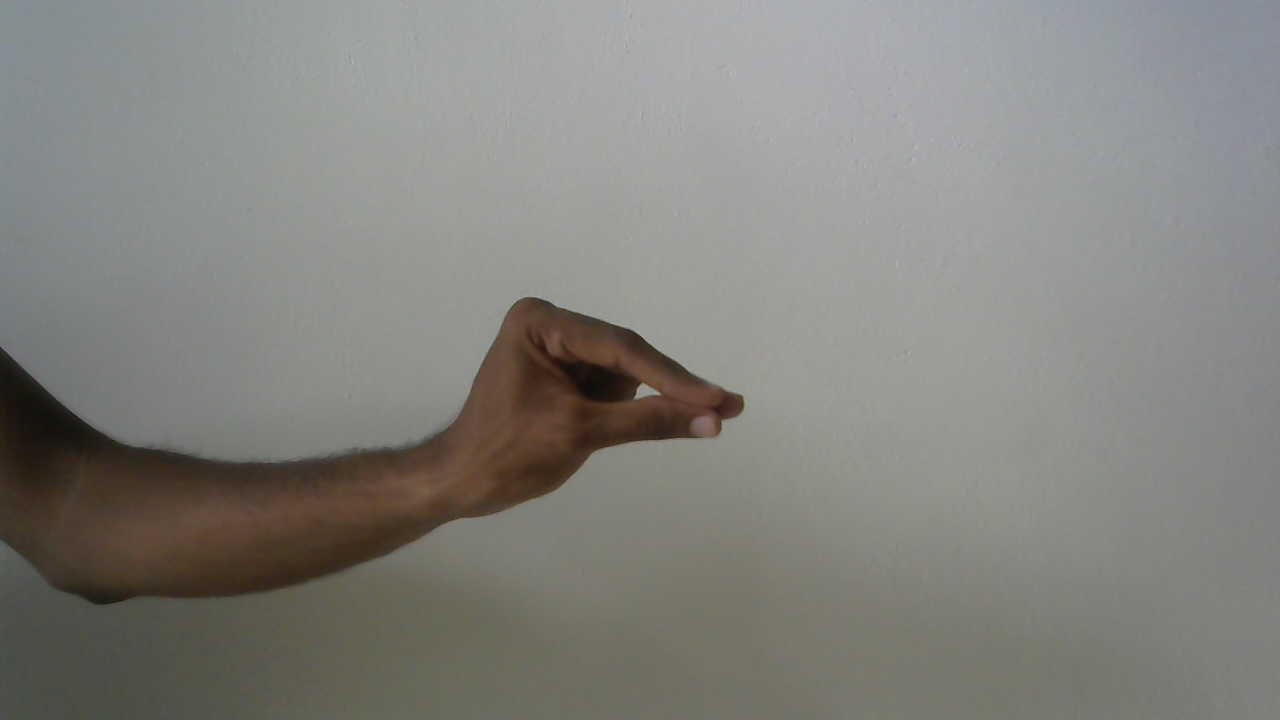no: (449, 286, 770, 522)
